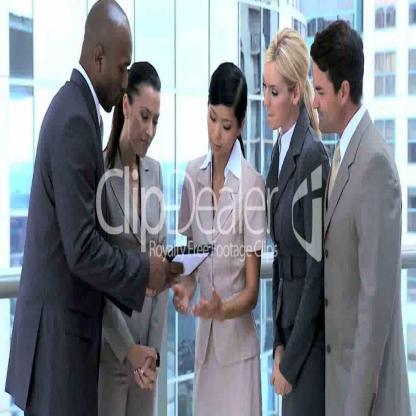face: (104, 23, 130, 115), (312, 56, 342, 134), (132, 85, 160, 157), (209, 93, 240, 157), (264, 63, 293, 131)
